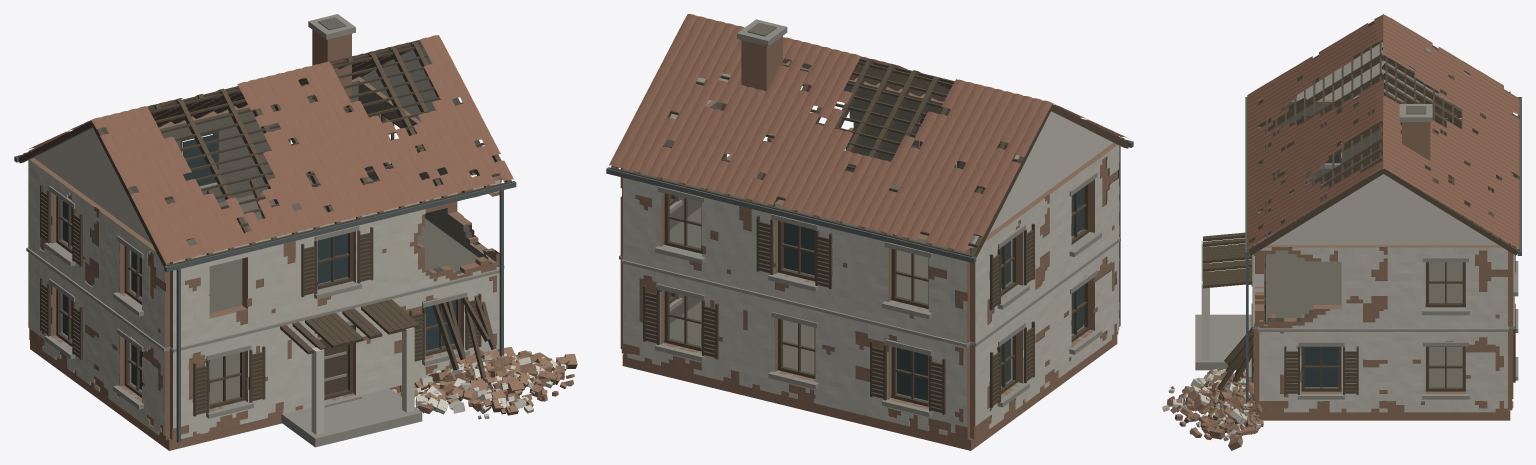
File: hero_house_ruined.glb
The picture shows the model from 3 angles, left to right: view 1: azimuth 30°, elevation 25°; view 2: azimuth 150°, elevation 25°; view 3: azimuth 270°, elevation 25°; orthographic projection. The views are drawn at different scales.
Visible parts, largest first — view 1: plaster, roof, wood, brick, interior, trim, glass, metal; view 2: plaster, roof, wood, brick, trim, interior, glass, metal; view 3: plaster, roof, wood, brick, interior, trim, glass, metal.
Boxes of the visible parts, left/top/right/bottom form: plaster: left=28, top=47, right=566, bottom=438; roof: left=29, top=35, right=513, bottom=263; wood: left=18, top=41, right=512, bottom=416; brick: left=29, top=30, right=577, bottom=450; interior: left=39, top=17, right=494, bottom=431; trim: left=26, top=14, right=504, bottom=447; glass: left=62, top=134, right=455, bottom=389; metal: left=14, top=76, right=516, bottom=442; plaster: left=621, top=73, right=1119, bottom=435; roof: left=609, top=14, right=1129, bottom=251; wood: left=610, top=58, right=1129, bottom=414; brick: left=620, top=36, right=1119, bottom=450; trim: left=619, top=19, right=1120, bottom=416; interior: left=631, top=22, right=1110, bottom=431; glass: left=783, top=118, right=1082, bottom=400; metal: left=606, top=140, right=1133, bottom=326; plaster: left=1162, top=42, right=1507, bottom=440; roof: left=1247, top=14, right=1519, bottom=248; wood: left=1203, top=21, right=1520, bottom=394; brick: left=1167, top=100, right=1513, bottom=450; interior: left=1264, top=102, right=1502, bottom=404; trim: left=1195, top=104, right=1518, bottom=399; glass: left=1264, top=119, right=1502, bottom=386; metal: left=1245, top=97, right=1521, bottom=402.
Size of the model in its own units: 14.33 by 10.36 by 12.15.
